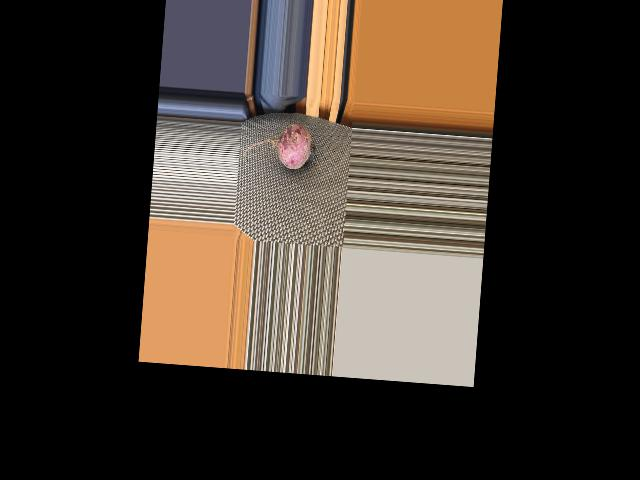beet: (244, 119, 318, 170)
